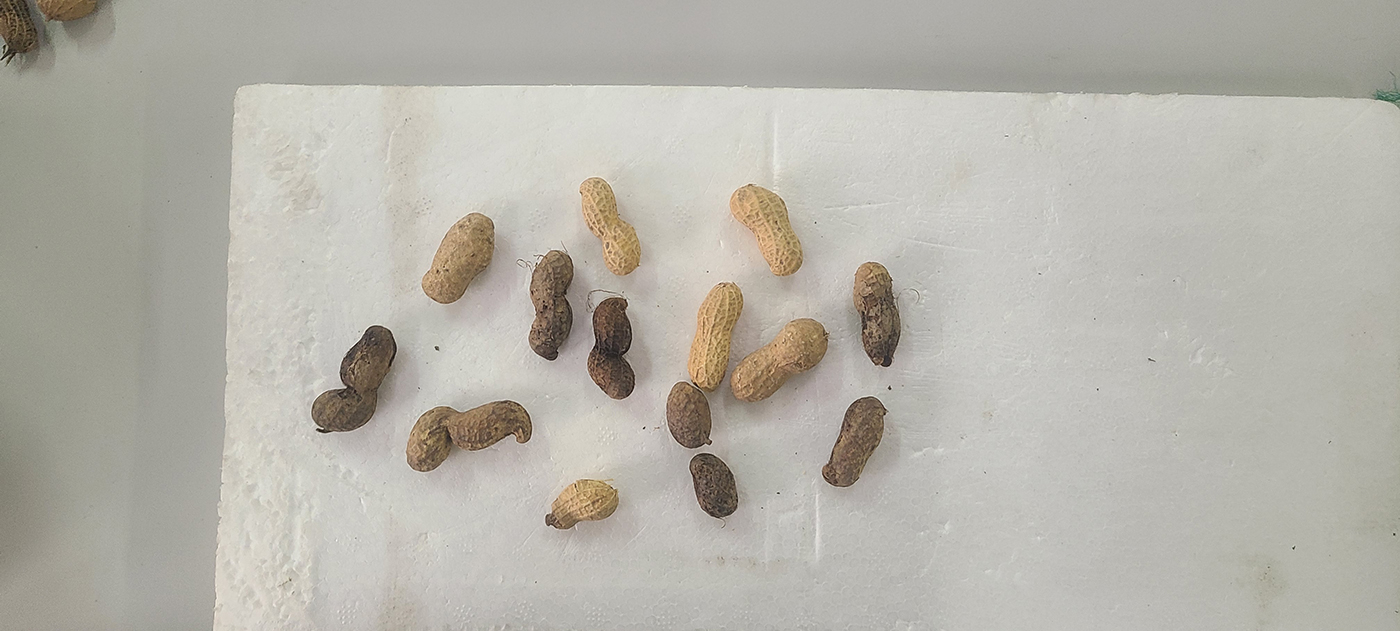h: (731, 317, 828, 402), (729, 185, 803, 277), (423, 212, 495, 303), (688, 282, 745, 391), (579, 177, 641, 276), (547, 479, 620, 531)
l: (406, 399, 533, 471), (311, 325, 397, 431), (820, 396, 885, 487), (527, 249, 574, 361), (853, 261, 901, 367), (587, 297, 636, 398), (690, 454, 738, 517), (666, 381, 711, 448)
